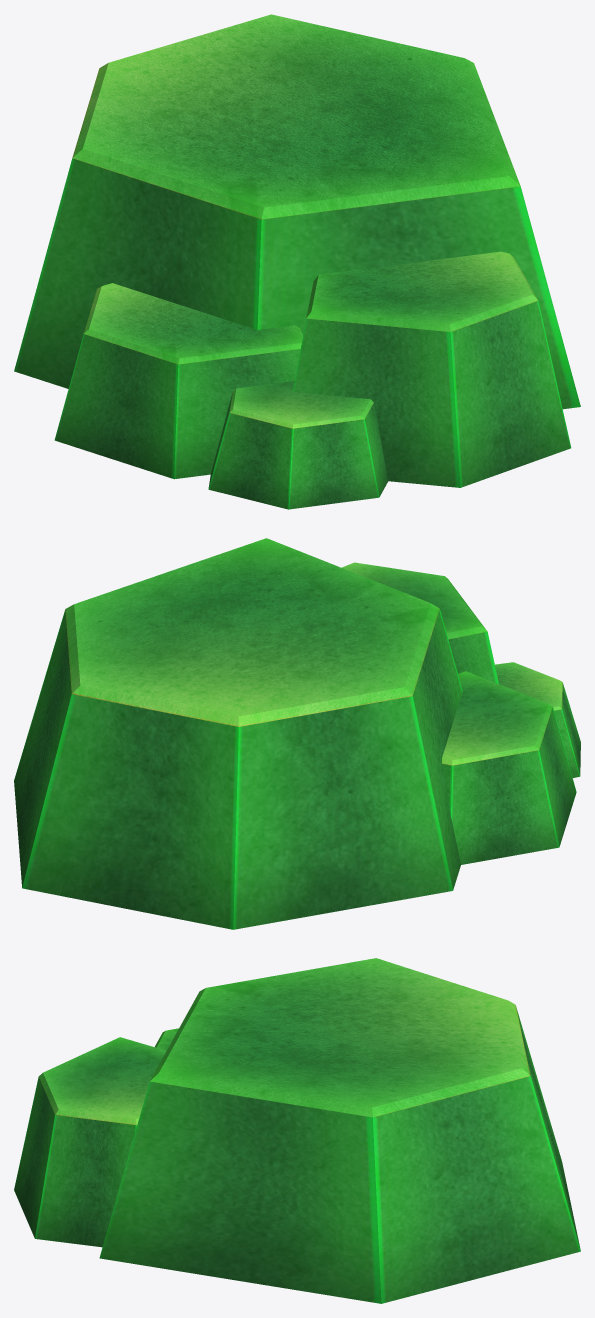
Rendered from static.fbx.
The picture shows the model from 3 angles, top to bottom: view 1: azimuth 30°, elevation 25°; view 2: azimuth 150°, elevation 25°; view 3: azimuth 270°, elevation 25°; orthographic projection. The views are drawn at different scales.
Visible parts, largest first — view 1: Cylinder, Cylinder_3, Cylinder_4, Cylinder_2; view 2: Cylinder, Cylinder_4, Cylinder_3, Cylinder_2; view 3: Cylinder, Cylinder_3.
Part boxes in pixels (<box>): Cylinder: <box>14,14,580,409</box>; Cylinder_3: <box>292,251,571,487</box>; Cylinder_4: <box>54,283,302,479</box>; Cylinder_2: <box>208,381,388,509</box>; Cylinder: <box>14,538,462,929</box>; Cylinder_4: <box>442,671,576,864</box>; Cylinder_3: <box>342,562,498,683</box>; Cylinder_2: <box>495,662,580,777</box>; Cylinder: <box>99,958,580,1303</box>; Cylinder_3: <box>14,1037,166,1247</box>.
Size of the model in its own units: 82.85 by 30.87 by 92.46.
2 materials, 2 textured.
